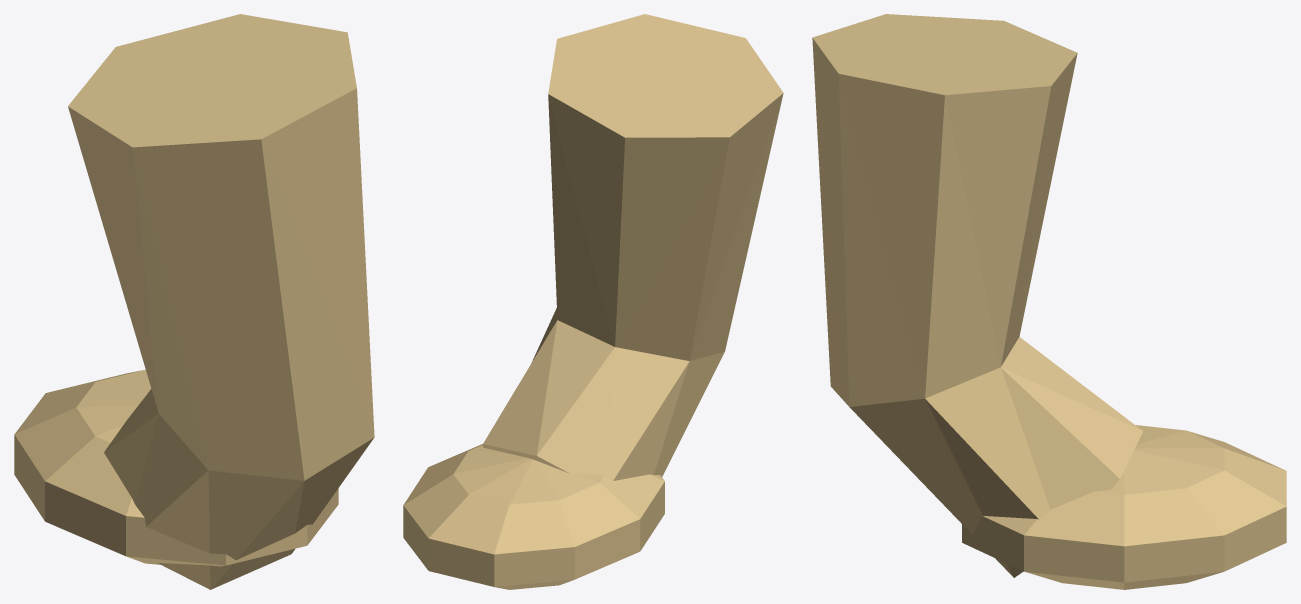
Rendered from gorehulk_a_leg_1.obj.
3 renders of one model, left to right at view 1: azimuth 30°, elevation 25°; view 2: azimuth 150°, elevation 25°; view 3: azimuth 270°, elevation 25°, orthographic. The views are drawn at different scales.
Visible parts, largest first — view 1: gorehulk_a_leg_1; view 2: gorehulk_a_leg_1; view 3: gorehulk_a_leg_1.
Boxes of the visible parts, x1,y1,x2,y2 form: gorehulk_a_leg_1: (14,14,374,589); gorehulk_a_leg_1: (403,14,783,589); gorehulk_a_leg_1: (812,14,1286,589).
Size of the model in its own units: 0.3208 by 0.5576 by 0.4759.
